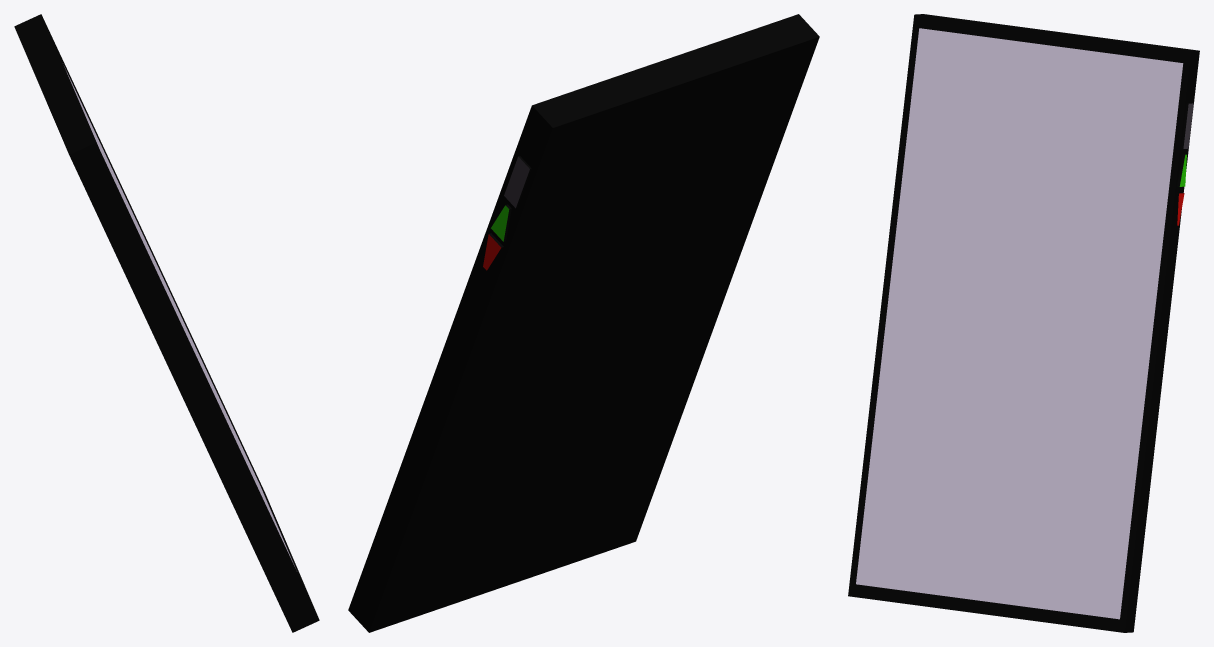
Rendered from low_poly_modern_phone.gltf.
3 views of the same model, side by side, from view 1: azimuth 30°, elevation 25°; view 2: azimuth 150°, elevation 25°; view 3: azimuth 270°, elevation 25° (orthographic). The views are drawn at different scales.
Parts seen in each view (by area): view 1: Plane; view 2: Plane; view 3: Plane.
Part boxes in pixels (x1,y1,x2,y2): Plane: [14, 14, 319, 632]; Plane: [348, 14, 819, 632]; Plane: [848, 14, 1199, 632].
Bounding box in the file's own units: 1.15 × 1.9 × 1.2.
